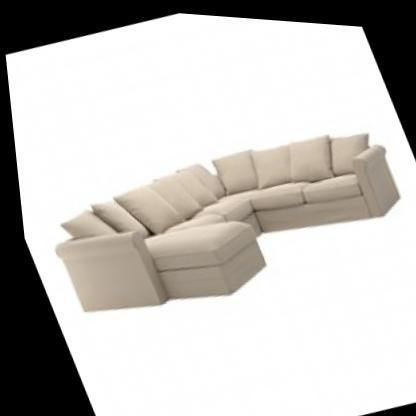Sofa: (9, 72, 416, 360)
